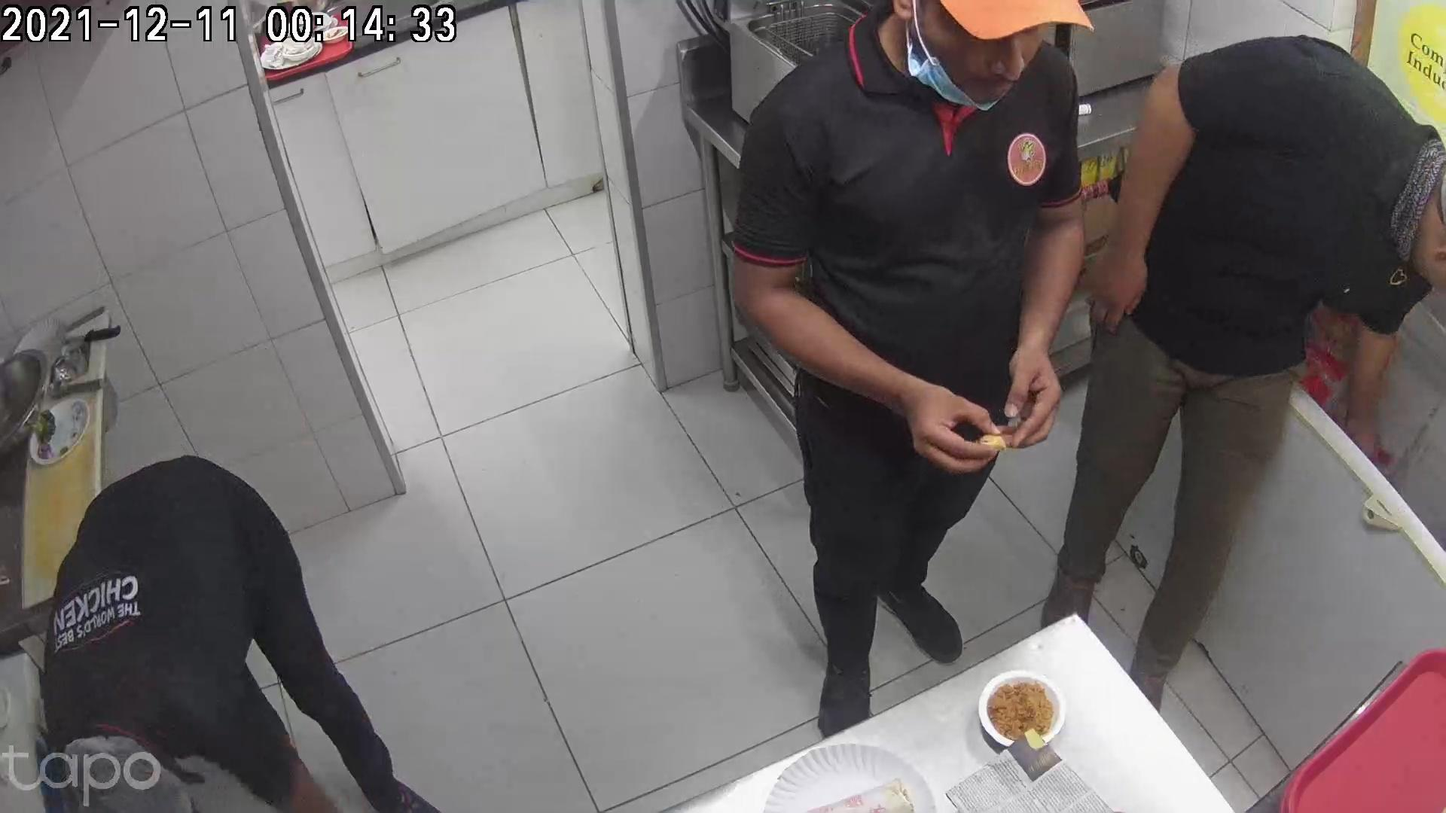no_gloves: (878, 378, 997, 474), (1002, 327, 1061, 448)
